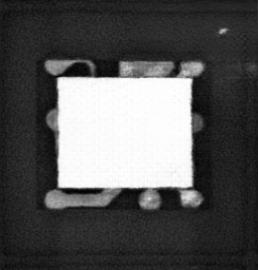DIE_INK: (217, 25, 229, 37)
